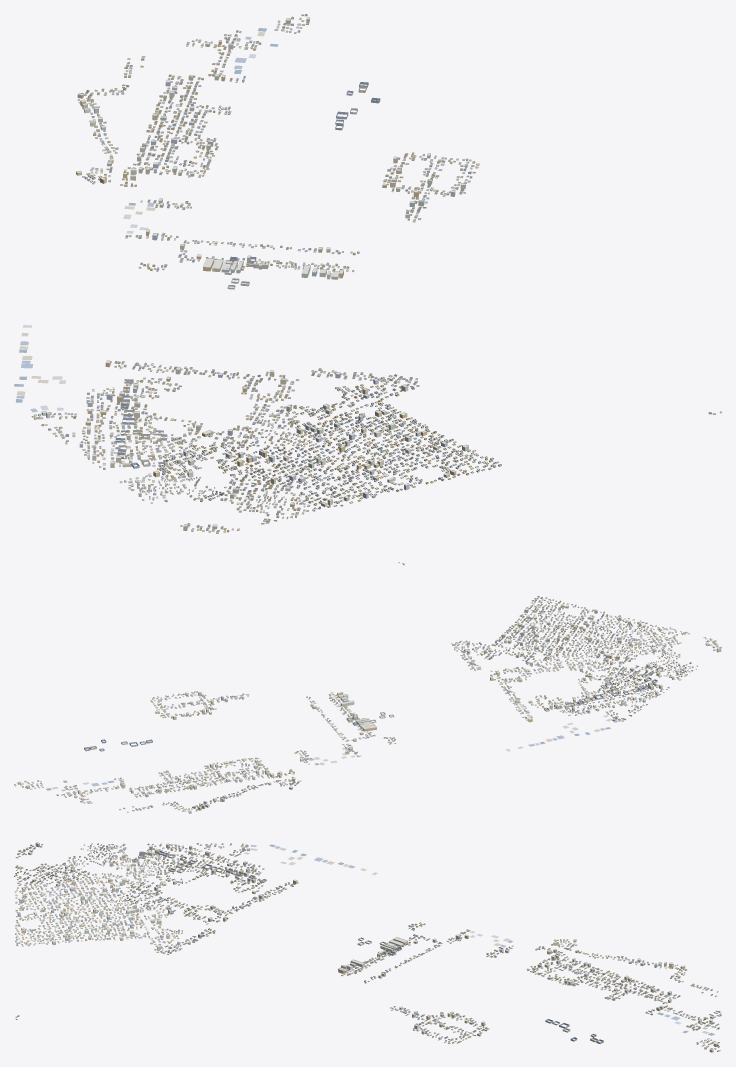
The picture shows the model from 3 angles, top to bottom: view 1: azimuth 30°, elevation 25°; view 2: azimuth 150°, elevation 25°; view 3: azimuth 270°, elevation 25°; orthographic projection. The views are drawn at different scales.
Parts seen in each view (by area): view 1: house, roof_zinc, apartment, roof_flat, factory; view 2: house, apartment, roof_zinc, roof_flat, factory; view 3: house, apartment, roof_zinc, roof_flat, factory.
Part boxes in pixels (left/top/right/bottom): house: left=31, top=14, right=721, bottom=533; roof_zinc: left=14, top=16, right=721, bottom=532; apartment: left=41, top=17, right=468, bottom=530; roof_flat: left=42, top=17, right=468, bottom=526; factory: left=115, top=82, right=380, bottom=468; house: left=14, top=562, right=721, bottom=812; apartment: left=17, top=604, right=721, bottom=813; roof_zinc: left=14, top=563, right=718, bottom=812; roof_flat: left=18, top=604, right=720, bottom=811; factory: left=84, top=674, right=657, bottom=751; house: left=14, top=843, right=721, bottom=1051; apartment: left=17, top=842, right=718, bottom=1052; roof_zinc: left=15, top=843, right=720, bottom=1049; roof_flat: left=18, top=842, right=717, bottom=1050; factory: left=132, top=851, right=603, bottom=1043.
Size of the model in its own units: 1.01e+08 by 735703 by 1.45e+08.
